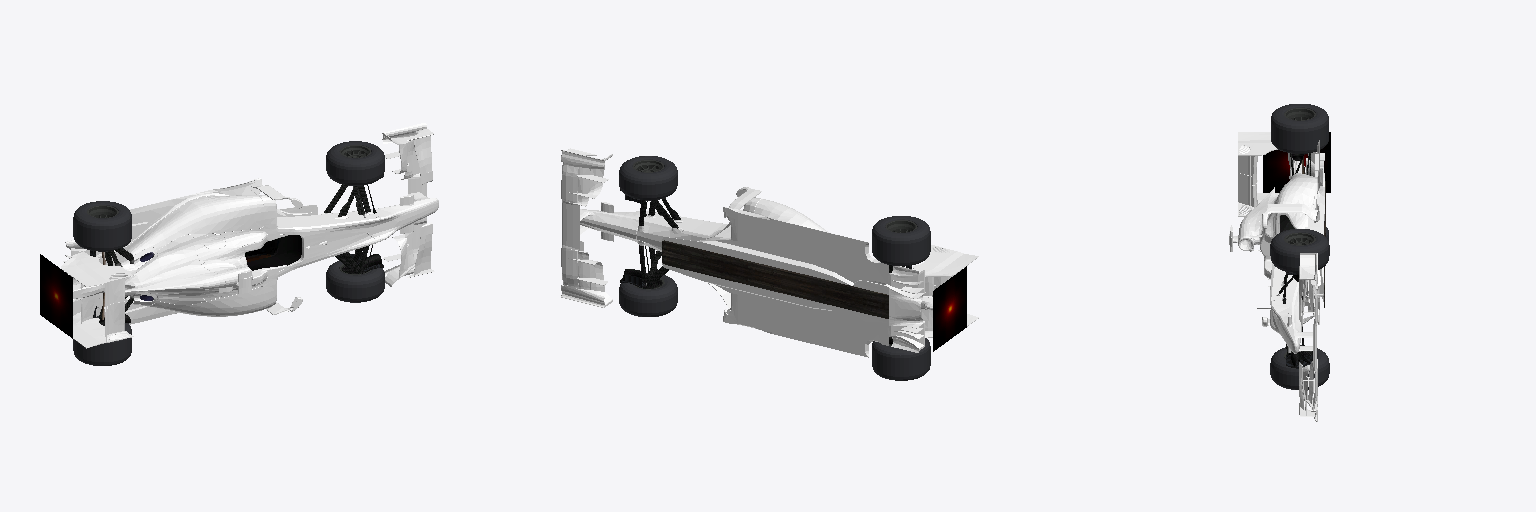
The picture shows the model from 3 angles: view 1: azimuth 30°, elevation 25°; view 2: azimuth 150°, elevation 25°; view 3: azimuth 270°, elevation 25°; orthographic projection.
Parts seen in each view (by area): view 1: object__58, object__24, object__59, object__25, object__23, object__52, object__22, object__56, object__54, object__48, object__50, object__46 (+10 smaller); view 2: object__58, object__56, object__25, object__0, object__52, object__50, object__22, object__48, object__46, object__54, object__24, object__62 (+5 smaller); view 3: object__58, object__52, object__25, object__22, object__66, object__24, object__48, object__46, object__54, object__47, object__51, object__31 (+1 smaller).
Part boxes in pixels (bbox=[...]): object__58: bbox=[65, 178, 380, 324]; object__24: bbox=[124, 195, 263, 272]; object__59: bbox=[125, 234, 225, 304]; object__25: bbox=[40, 254, 72, 338]; object__23: bbox=[126, 287, 263, 316]; object__52: bbox=[73, 210, 131, 251]; object__22: bbox=[371, 195, 438, 241]; object__56: bbox=[130, 235, 301, 300]; object__54: bbox=[61, 251, 133, 286]; object__48: bbox=[326, 151, 384, 184]; object__50: bbox=[73, 323, 131, 365]; object__46: bbox=[326, 270, 384, 301]; object__58: bbox=[636, 207, 932, 357]; object__56: bbox=[662, 240, 888, 318]; object__25: bbox=[933, 266, 966, 351]; object__0: bbox=[561, 162, 579, 288]; object__52: bbox=[872, 224, 930, 265]; object__50: bbox=[872, 340, 930, 380]; object__22: bbox=[580, 202, 648, 242]; object__48: bbox=[619, 167, 677, 199]; object__46: bbox=[619, 284, 677, 316]; object__54: bbox=[913, 245, 978, 276]; object__24: bbox=[754, 199, 828, 232]; object__62: bbox=[568, 249, 607, 291]; object__58: bbox=[1246, 140, 1324, 324]; object__52: bbox=[1271, 112, 1328, 153]; object__25: bbox=[1263, 132, 1330, 192]; object__22: bbox=[1270, 302, 1301, 353]; object__66: bbox=[1238, 156, 1257, 207]; object__24: bbox=[1276, 173, 1314, 208]; object__48: bbox=[1270, 239, 1329, 272]; object__46: bbox=[1270, 356, 1329, 389]; object__54: bbox=[1238, 132, 1277, 155]; object__47: bbox=[1273, 229, 1326, 272]; object__51: bbox=[1273, 104, 1326, 153]; object__31: bbox=[1262, 204, 1317, 228].
Size of the model in its own units: 4.84 by 1.8 by 1.12.
Materials: 7 (6 with a texture image).